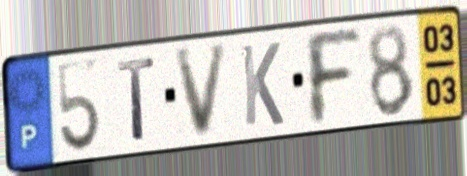5: (54, 54, 105, 156)
8: (365, 21, 417, 118)
F: (300, 27, 365, 129)
K: (238, 39, 286, 129)
T: (115, 54, 158, 143)
V: (172, 39, 232, 143)
